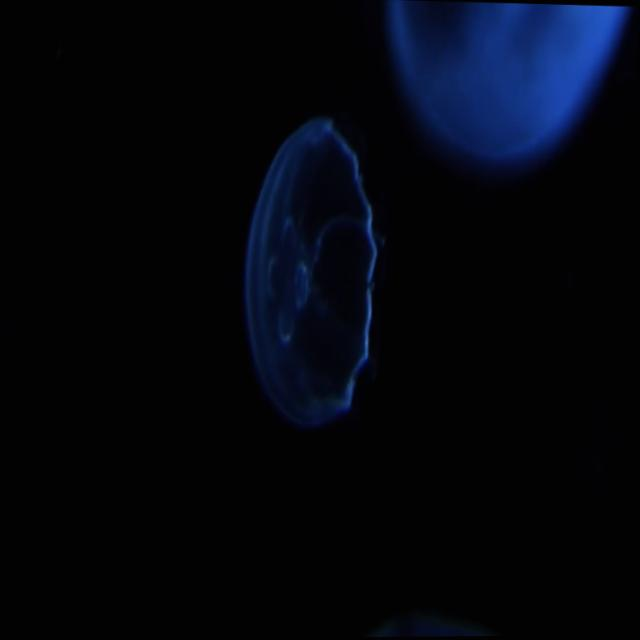Moon-jellyfish: (379, 0, 637, 192), (240, 115, 386, 438)
